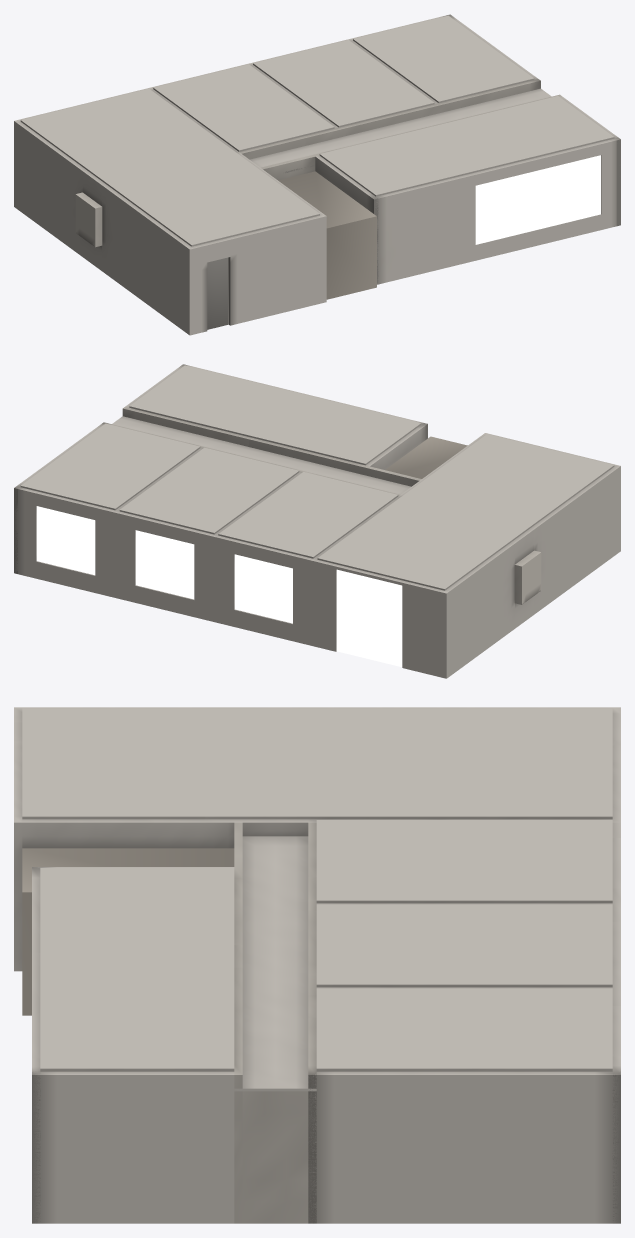
The picture shows the model from 3 angles, top to bottom: view 1: azimuth 30°, elevation 25°; view 2: azimuth 150°, elevation 25°; view 3: azimuth 270°, elevation 25°; orthographic projection. The views are drawn at different scales.
Visible parts, largest first — view 1: wing_ceiling, shell_walls, shell_ceiling, wing_walls, wing_windows, wing_mass, shell_corridor, entry_door; view 2: wing_ceiling, shell_walls, shell_ceiling, wing_walls, wing_windows, window, shell_corridor, wing_mass; view 3: wing_ceiling, wing_walls, shell_ceiling, shell_corridor, shell_walls, wing_mass.
Boxes of the visible parts, x1=… form: wing_ceiling: x1=153, y1=15, x2=614, y2=196; shell_walls: x1=14, y1=87, x2=326, y2=335; shell_ceiling: x1=20, y1=89, x2=319, y2=246; wing_walls: x1=151, y1=14, x2=620, y2=284; wing_windows: x1=475, y1=155, x2=600, y2=244; wing_mass: x1=278, y1=171, x2=376, y2=299; shell_corridor: x1=239, y1=79, x2=561, y2=180; entry_door: x1=207, y1=257, x2=228, y2=329; wing_ceiling: x1=20, y1=365, x2=421, y2=558; shell_walls: x1=311, y1=433, x2=620, y2=678; shell_ceiling: x1=317, y1=434, x2=614, y2=590; wing_walls: x1=14, y1=364, x2=427, y2=645; wing_windows: x1=36, y1=506, x2=292, y2=623; window: x1=336, y1=569, x2=402, y2=667; shell_corridor: x1=102, y1=407, x2=421, y2=495; wing_mass: x1=385, y1=436, x2=467, y2=478; wing_ceiling: x1=40, y1=820, x2=612, y2=1091; wing_walls: x1=32, y1=822, x2=620, y2=1223; shell_ceiling: x1=22, y1=708, x2=612, y2=819; shell_corridor: x1=234, y1=822, x2=316, y2=1223; shell_walls: x1=14, y1=707, x2=620, y2=971; wing_mass: x1=22, y1=848, x2=234, y2=1015.
Bounding box in the file's own units: 14.84 × 2.8 × 10.19.
